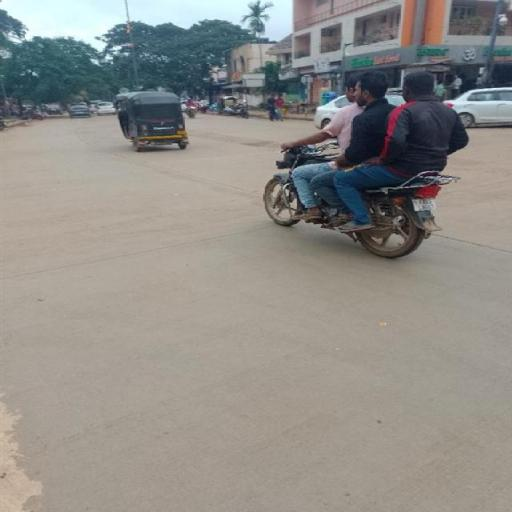tripple riding: (277, 68, 470, 167)
